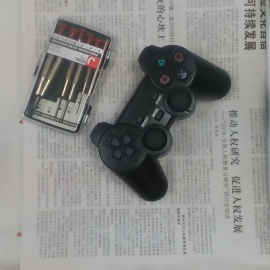remote: (92, 44, 231, 200)
